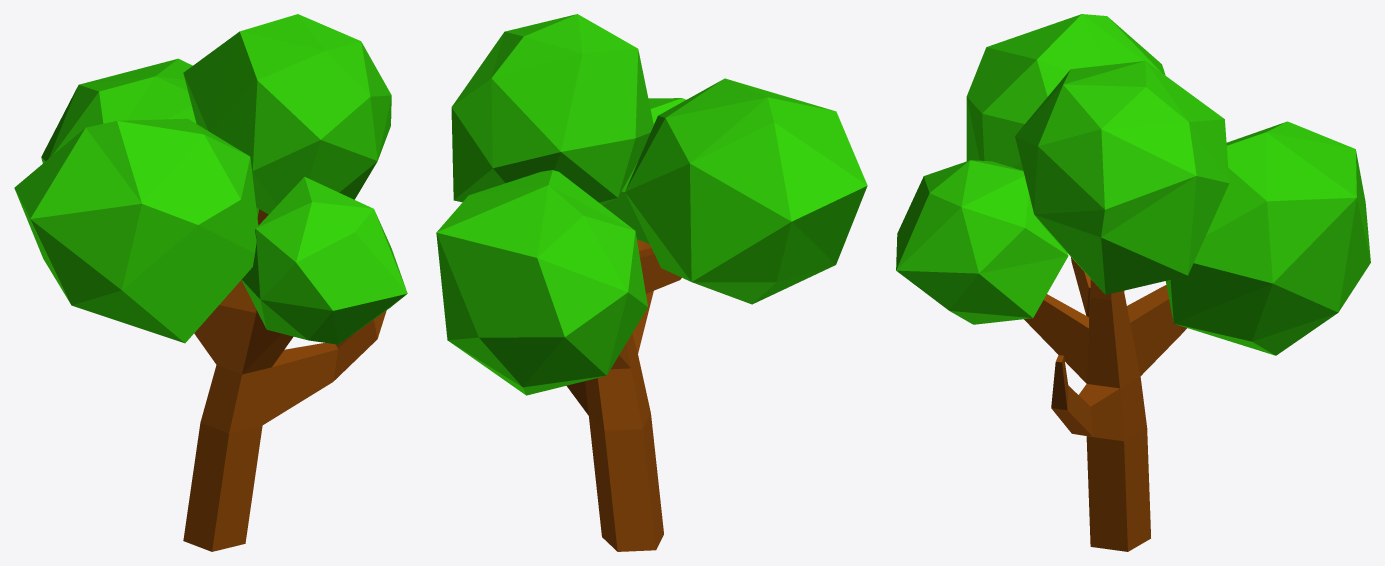
File: Tree1.fbx
3 renders of one model, left to right at view 1: azimuth 30°, elevation 25°; view 2: azimuth 150°, elevation 25°; view 3: azimuth 270°, elevation 25°, orthographic.
Visible parts, largest first — view 1: Icosphere.005, Icosphere.006, Circle.001, Icosphere.003, Icosphere.004; view 2: Icosphere.005, Icosphere.004, Icosphere.006, Circle.001, Icosphere.003; view 3: Icosphere.006, Icosphere.004, Circle.001, Icosphere.003, Icosphere.005.
Part boxes in pixels (box(x1,y1,x2,y2)): Icosphere.005: box(14, 118, 258, 343); Icosphere.006: box(183, 14, 391, 214); Circle.001: box(183, 209, 386, 551); Icosphere.003: box(241, 176, 407, 344); Icosphere.004: box(41, 58, 258, 217); Icosphere.005: box(625, 78, 867, 304); Icosphere.004: box(436, 170, 647, 395); Icosphere.006: box(451, 14, 653, 205); Circle.001: box(566, 205, 681, 551); Icosphere.003: box(603, 98, 685, 243); Icosphere.006: box(1015, 61, 1229, 294); Icosphere.004: box(1165, 121, 1370, 355); Circle.001: box(1024, 257, 1186, 551); Icosphere.003: box(896, 160, 1068, 324); Icosphere.005: box(966, 14, 1165, 170).
Bounding box in the file's own units: 1332 × 1645 × 1418.
